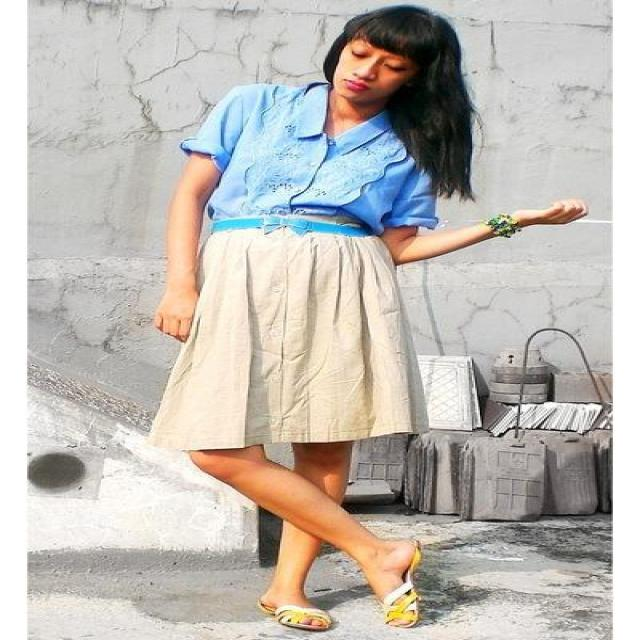shirt: (166, 81, 437, 237)
shoe: (270, 576, 436, 639)
skirt: (150, 227, 407, 459)
